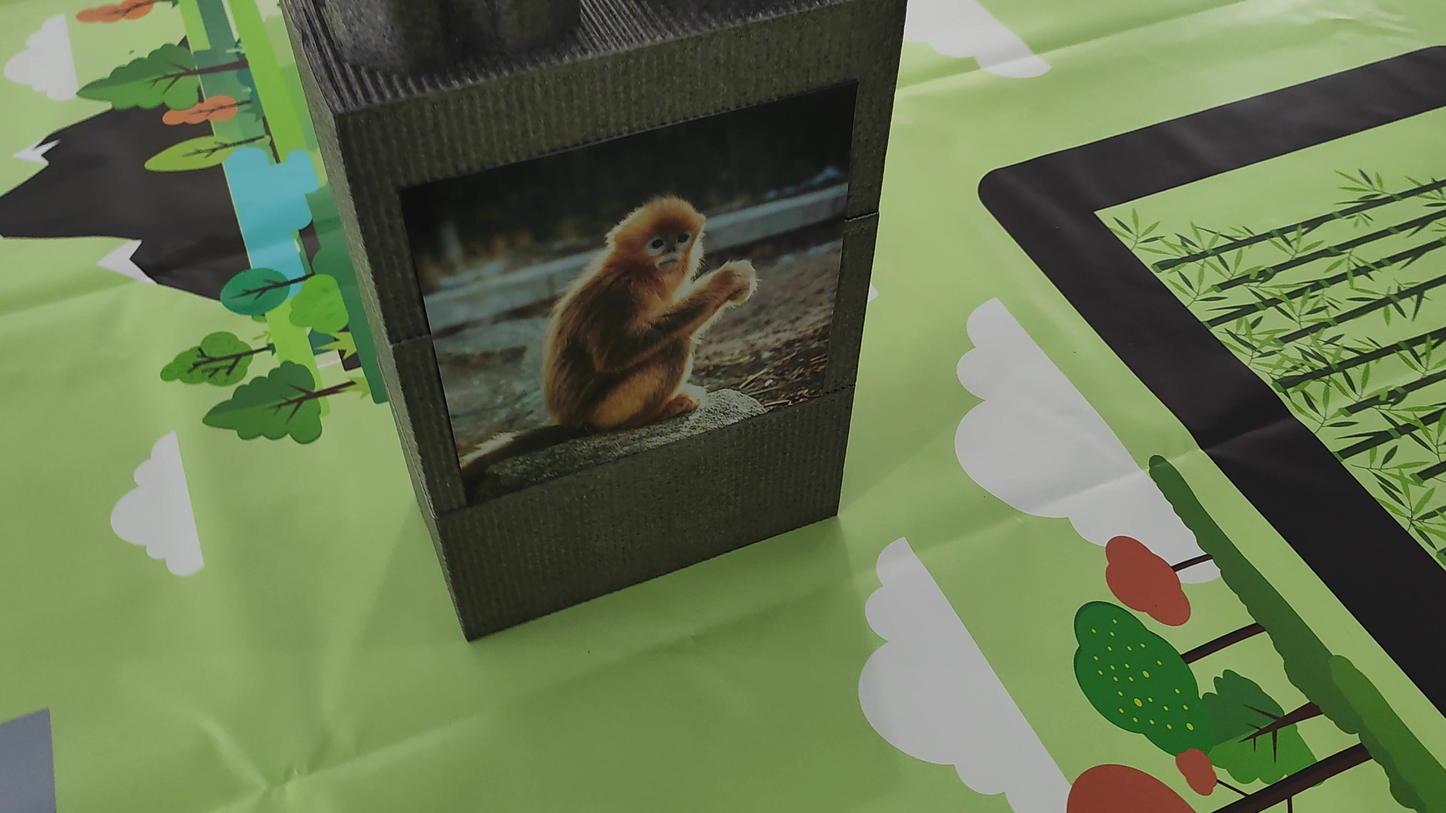monkey: (439, 175, 775, 489)
